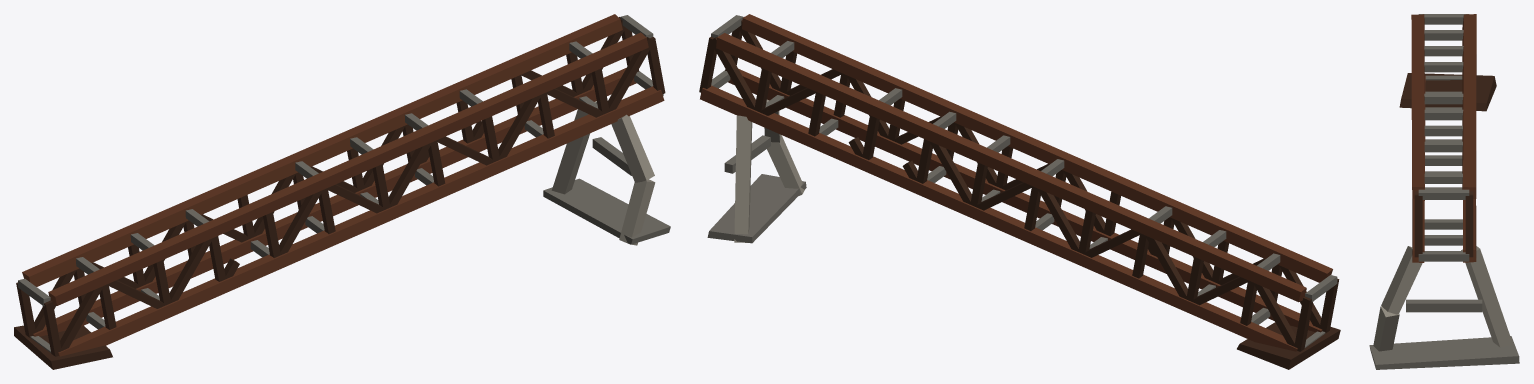
The model's file is hull_gantry.glb.
3 renders of one model, left to right at view 1: azimuth 30°, elevation 25°; view 2: azimuth 150°, elevation 25°; view 3: azimuth 270°, elevation 25°, orthographic.
Visible parts, largest first — view 1: hull_gantry; view 2: hull_gantry; view 3: hull_gantry.
Part boxes in pixels (x1,y1,x2,y2): hull_gantry: (14, 14, 670, 369); hull_gantry: (699, 14, 1340, 369); hull_gantry: (1369, 14, 1519, 369).
Size of the model in its own units: 44.49 by 12.98 by 9.44.
